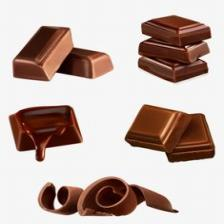brown: (10, 106, 83, 161), (79, 179, 178, 216), (13, 27, 73, 80), (126, 105, 192, 152), (167, 115, 215, 162), (142, 15, 211, 46), (139, 38, 211, 63), (139, 57, 208, 82), (58, 48, 113, 78), (38, 183, 83, 215)
